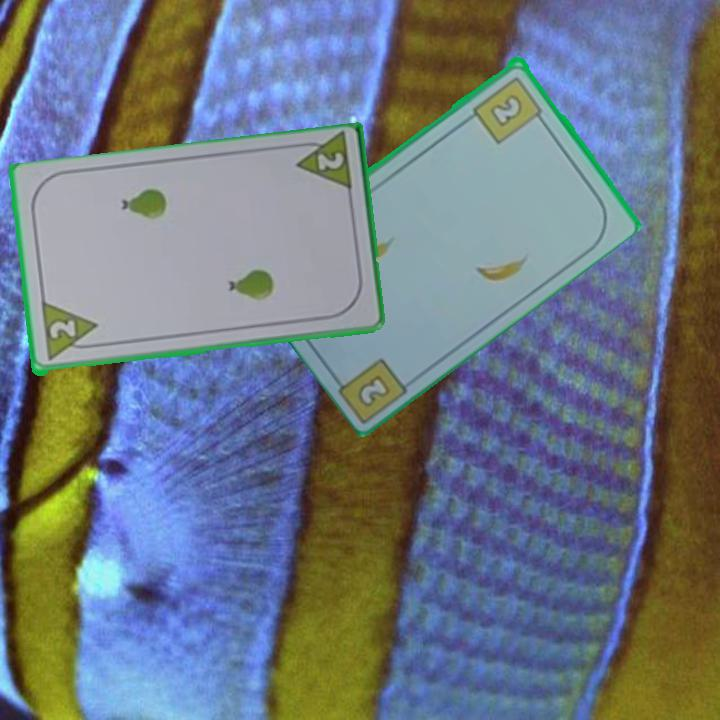2b: (469, 72, 548, 146), (353, 370, 394, 410)
2p: (290, 132, 355, 197), (37, 300, 102, 364)
